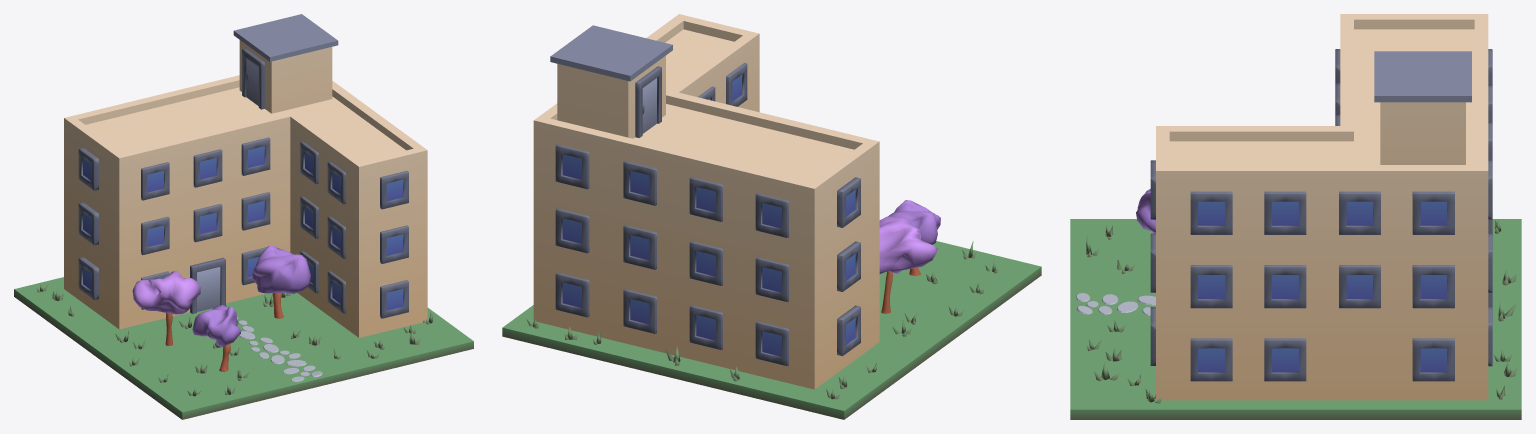
The model's file is apartment_complex.glb.
The picture shows the model from 3 angles, left to right: view 1: azimuth 30°, elevation 25°; view 2: azimuth 150°, elevation 25°; view 3: azimuth 270°, elevation 25°; orthographic projection. The views are drawn at different scales.
Parts seen in each view (by area): view 1: apartment_complex; view 2: apartment_complex; view 3: apartment_complex.
Boxes of the visible parts, bbox=[...] form: apartment_complex: bbox=[14, 14, 473, 419]; apartment_complex: bbox=[502, 14, 1041, 419]; apartment_complex: bbox=[1070, 14, 1521, 419].
Bounding box in the file's own units: 2 × 1.51 × 2.
1 material, 1 textured.
